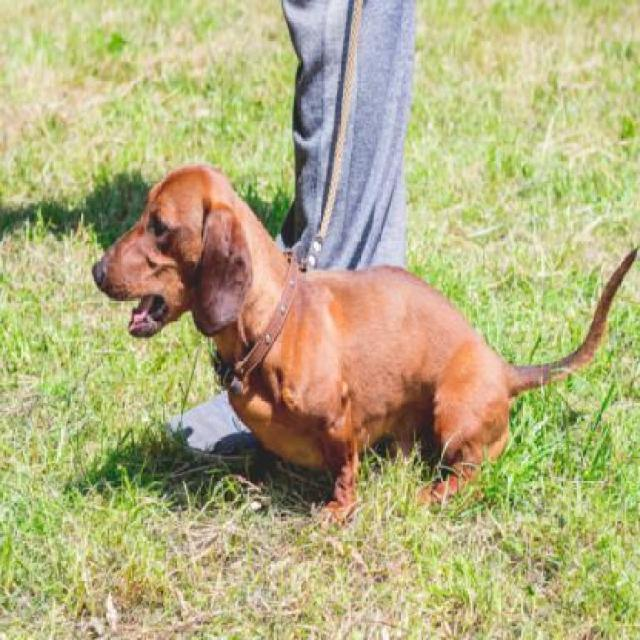Dog: (90, 159, 638, 503)
